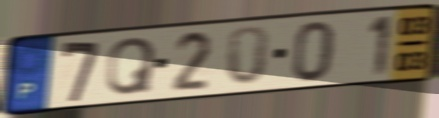0: (289, 18, 338, 84), (225, 24, 272, 89)
1: (367, 12, 395, 78)
2: (171, 30, 215, 93)
7: (61, 39, 101, 104)
Q: (103, 35, 158, 98)
